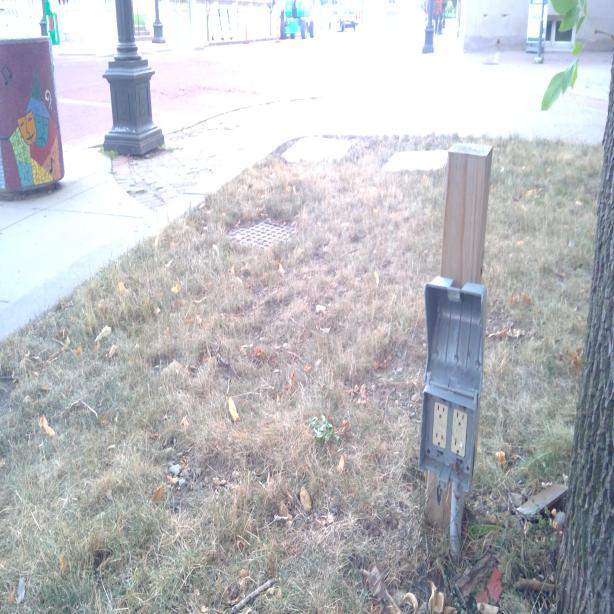typeb: (453, 408, 468, 429), (434, 402, 448, 423), (432, 430, 447, 449), (453, 438, 465, 456)
